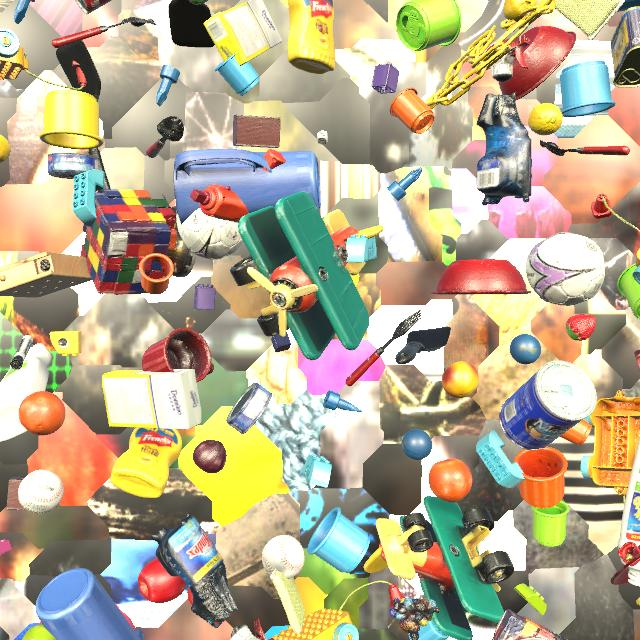ycb_002_master_chef_can: (499, 360, 597, 451)
ycb_004_sugar_box: (102, 369, 202, 430), (203, 0, 282, 66)
ycb_005_tomato_soup_can: (75, 0, 112, 15)
ycb_006_mustard_bottle: (110, 428, 182, 498), (287, 0, 335, 74)
ycb_007_tuna_fish_can: (226, 382, 272, 434), (47, 152, 99, 179)
ycb_008_pudding_box: (634, 350, 640, 372)
ycb_010_potted_meat_can: (611, 6, 640, 88)
ycb_012_strawberry: (566, 314, 596, 341), (187, 587, 193, 605), (188, 0, 208, 5)
ycb_013_apple: (138, 558, 186, 603)
ycb_014_lemon: (528, 103, 563, 136), (503, 0, 537, 22), (0, 134, 11, 163)
ycb_015_peach: (442, 361, 479, 398)
ycb_016_pear: (22, 623, 56, 640)
ycb_017_orange: (19, 391, 65, 436), (429, 458, 472, 503)
ycb_018_plum: (193, 440, 227, 474)
